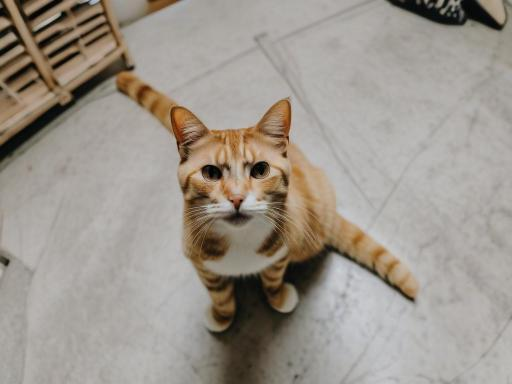cat_sitting: (117, 72, 419, 331)
